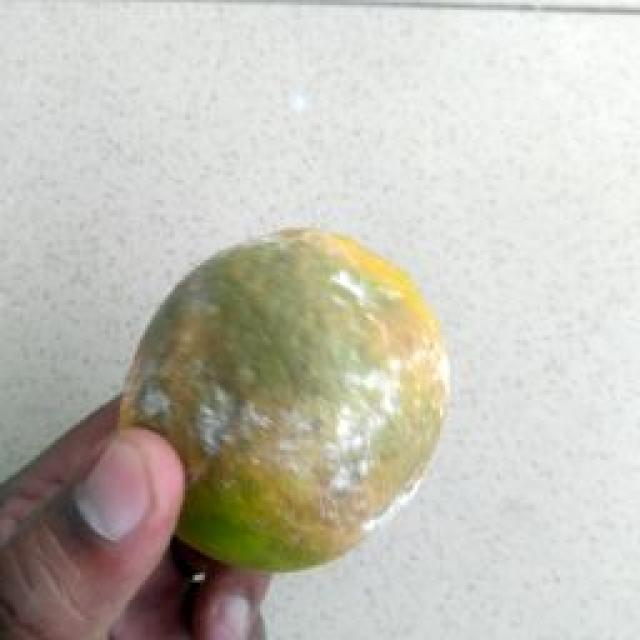Bad_Orange: (121, 229, 448, 569)
